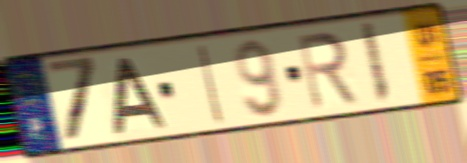7: (44, 53, 101, 147)
9: (232, 36, 285, 120)
A: (111, 55, 171, 136)
I: (357, 19, 394, 108), (196, 41, 227, 128)
R: (294, 29, 362, 113)
